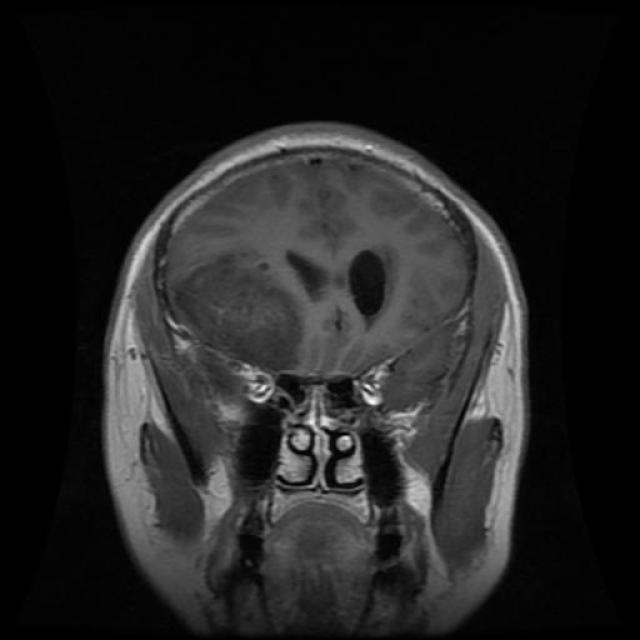glioma: (170, 246, 318, 374)
